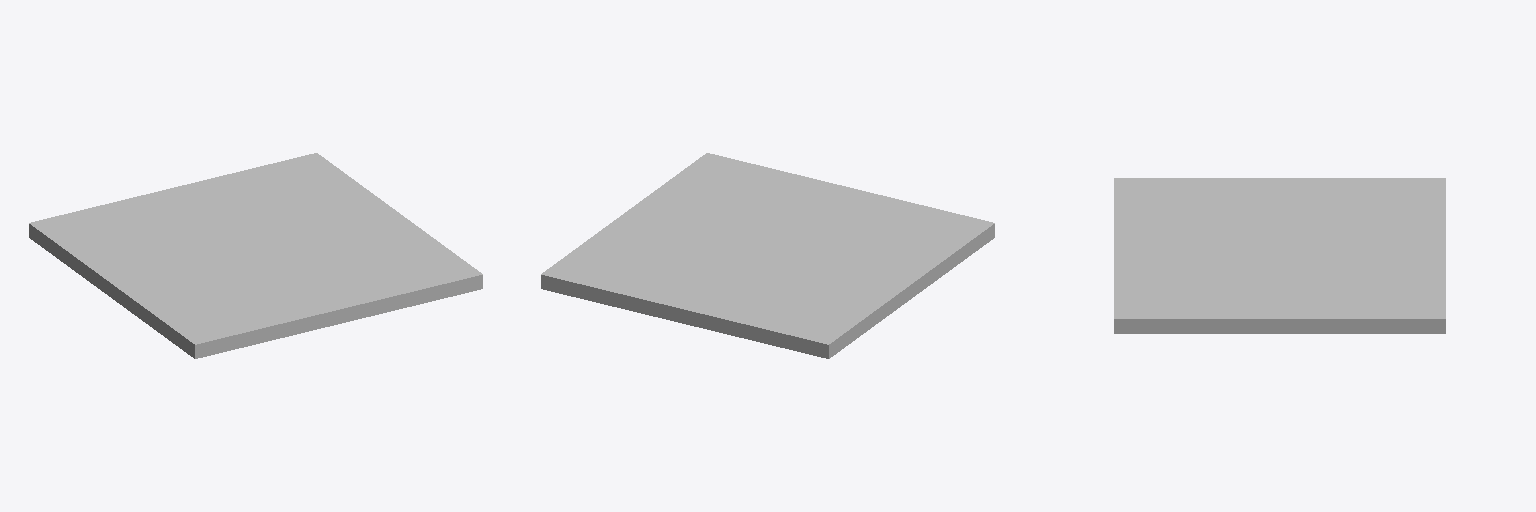
Rendered from metalPlatePath01.obj.
3 views of the same model, side by side, from view 1: azimuth 30°, elevation 25°; view 2: azimuth 150°, elevation 25°; view 3: azimuth 270°, elevation 25° (orthographic).
Visible parts, largest first — view 1: Cube; view 2: Cube; view 3: Cube.
Boxes of the visible parts, x1=… form: Cube: x1=29, y1=153, x2=482, y2=358; Cube: x1=541, y1=153, x2=994, y2=358; Cube: x1=1114, y1=178, x2=1445, y2=333.
Size of the model in its own units: 1.5 by 0.0719 by 1.5.